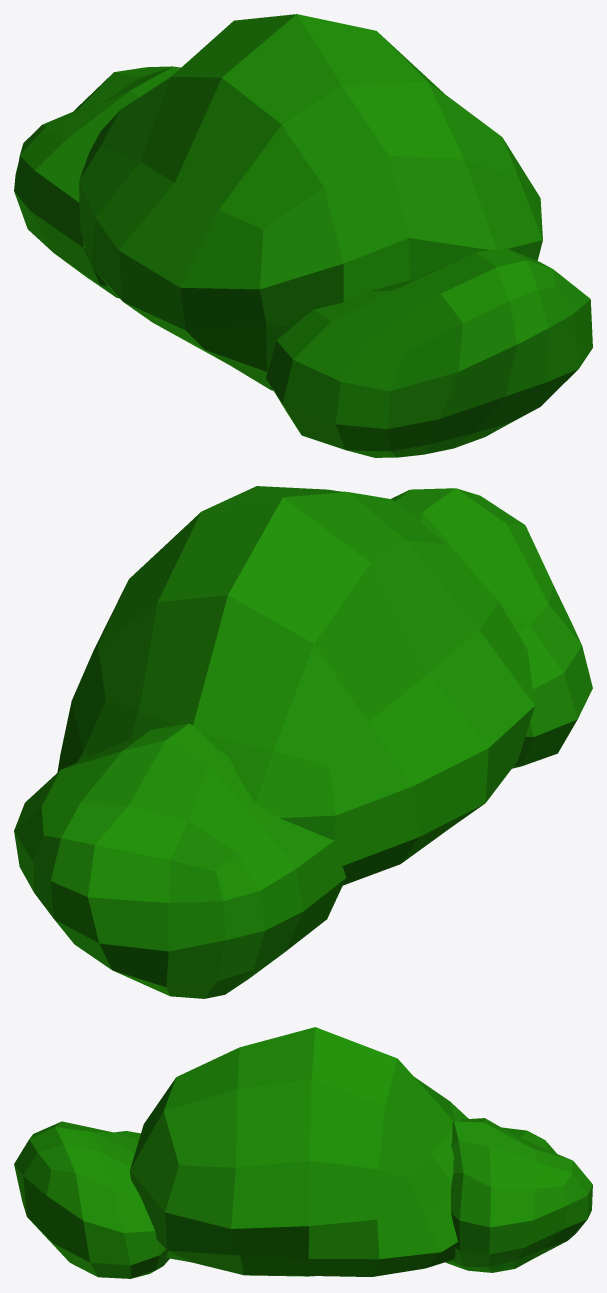
The model's file is bush.fbx.
The picture shows the model from 3 angles, top to bottom: view 1: azimuth 30°, elevation 25°; view 2: azimuth 150°, elevation 25°; view 3: azimuth 270°, elevation 25°; orthographic projection. The views are drawn at different scales.
Parts seen in each view (by area): view 1: Cube.001; view 2: Cube.001; view 3: Cube.001.
Boxes of the visible parts, left/top/right/bottom form: Cube.001: left=14, top=14, right=592, bottom=457; Cube.001: left=14, top=486, right=592, bottom=998; Cube.001: left=14, top=1027, right=592, bottom=1278.
Bounding box in the file's own units: 466 × 410 × 871.
